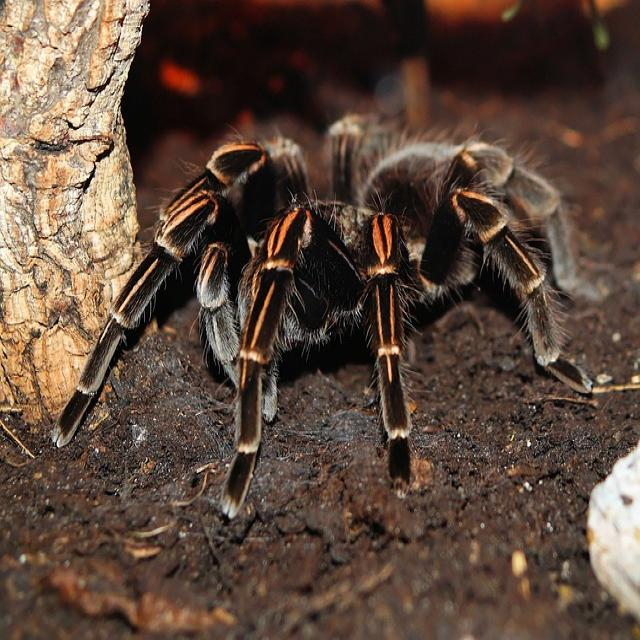spyder: (52, 117, 590, 517)
